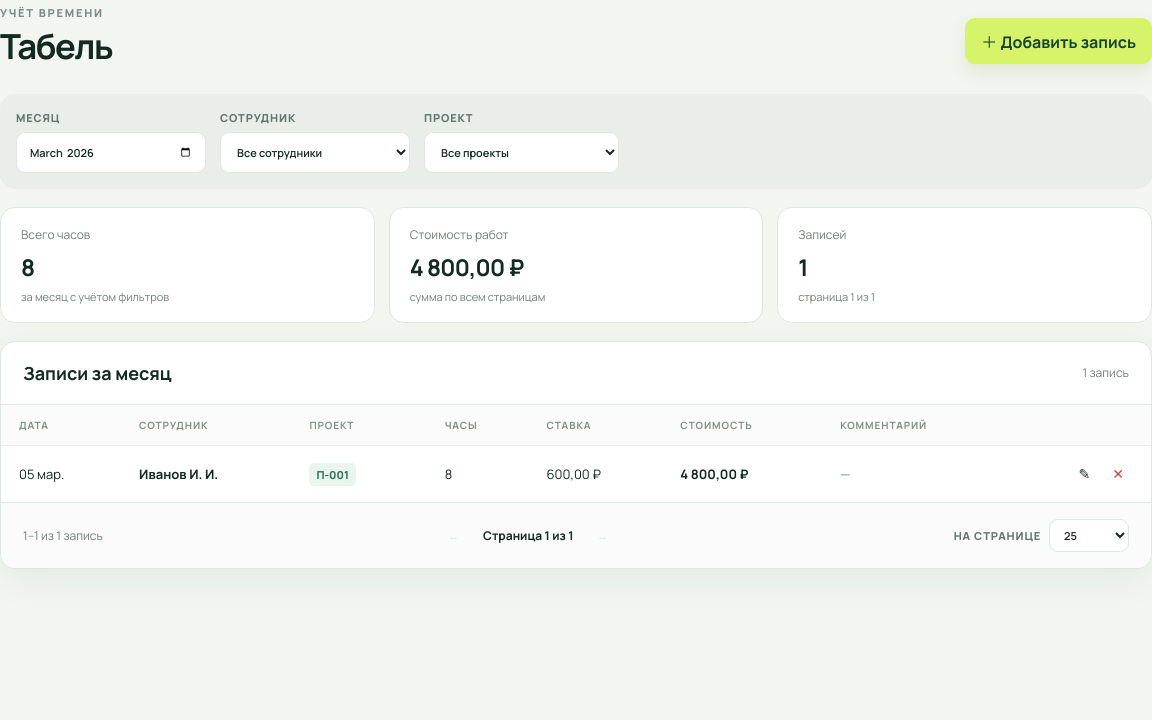
Test case: EntriesPage › keeps the row when the dialog is dismissed
Click the button named "Удалить запись от" at (1118, 474), box [1103,461,1133,487]
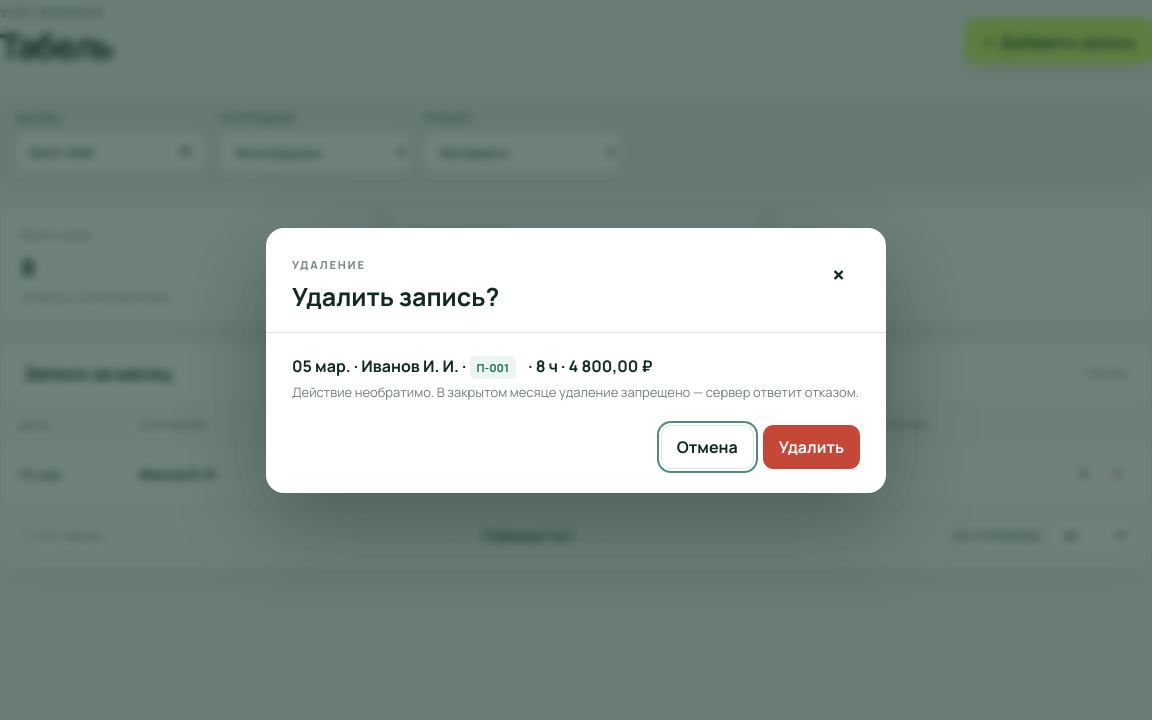
Click the button "Отмена" at (707, 446), box [661,424,754,468]
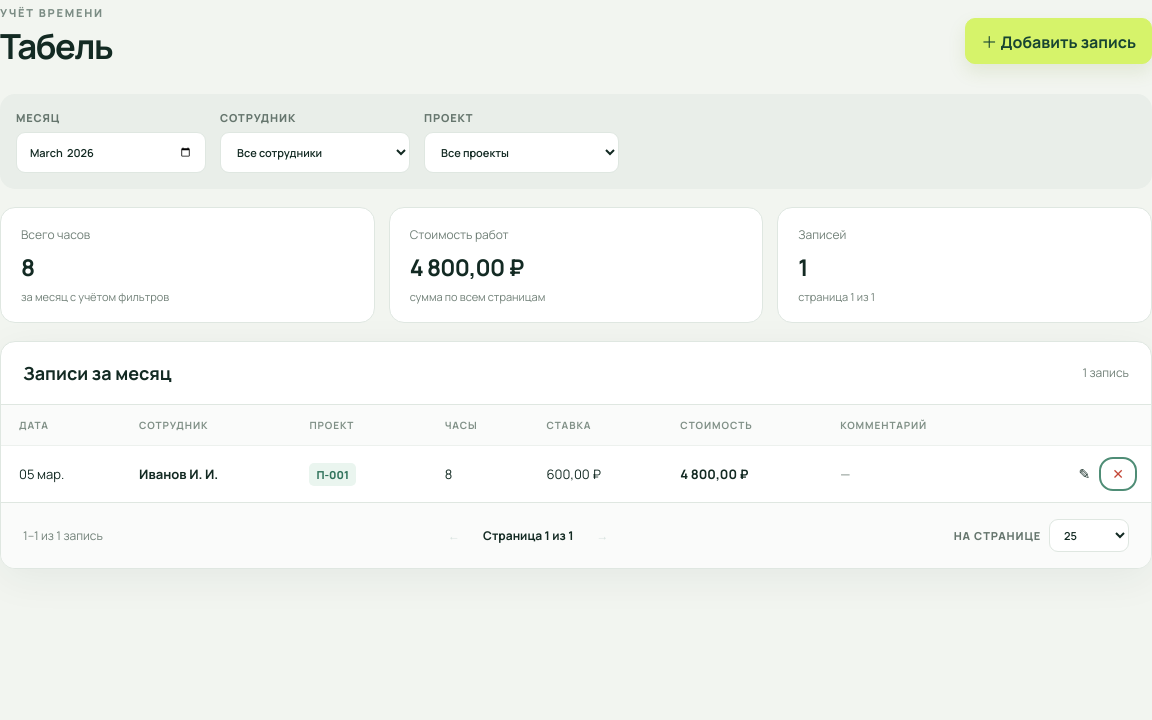
Check: the dialog is gone
